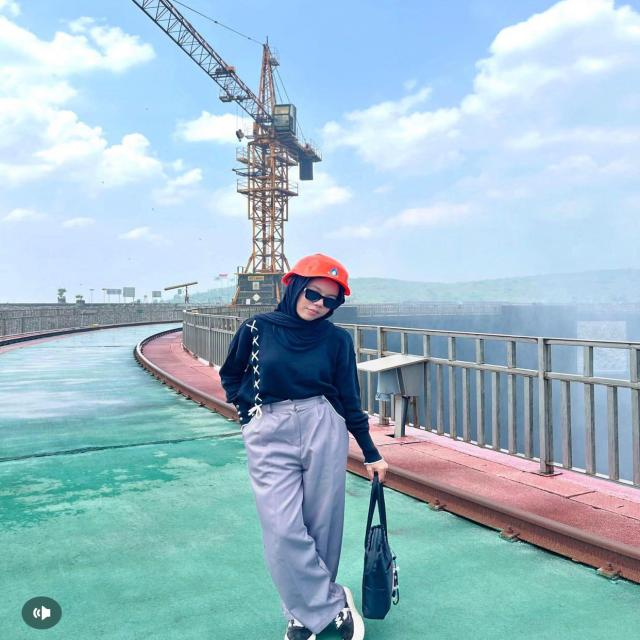safetyhelmet: (273, 245, 353, 325)
